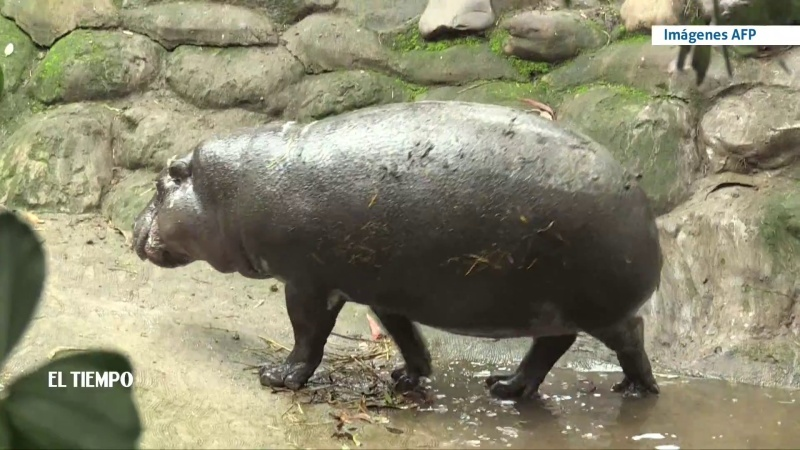hipopotamo: (118, 93, 692, 408)
